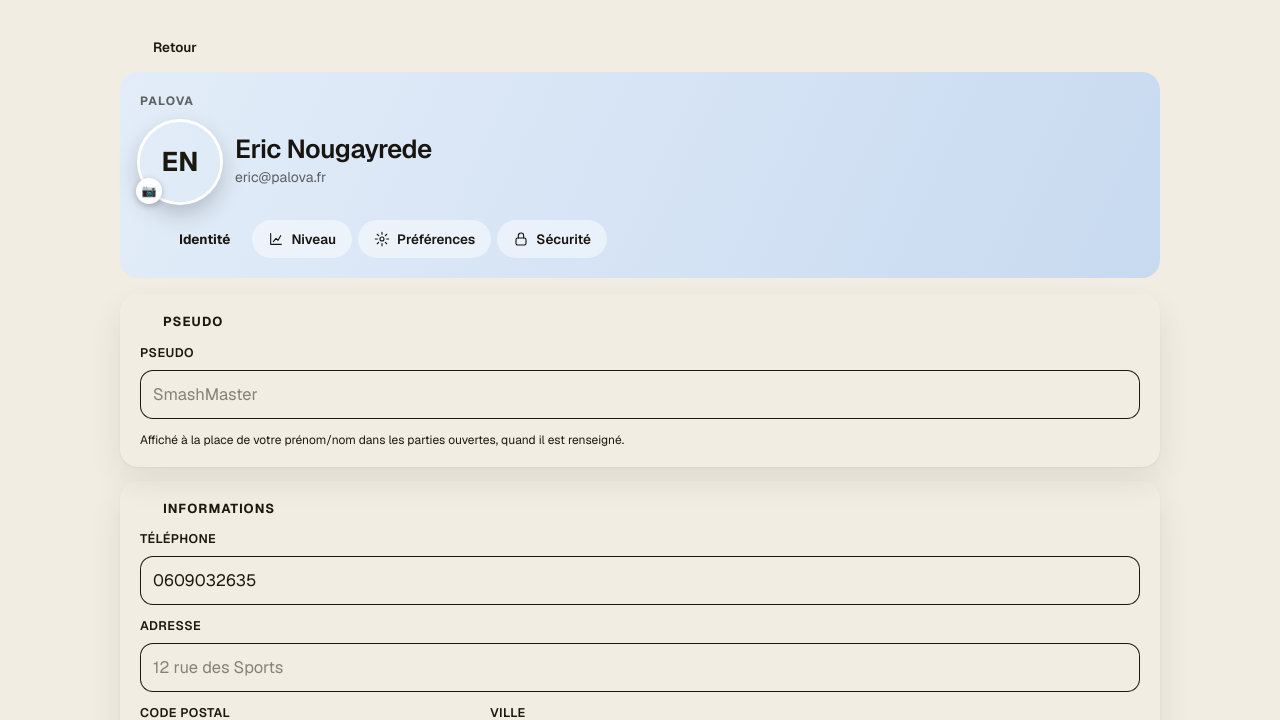
Test: Page Mon profil — onglets + SaveBar › change d’onglet et reflète l’onglet actif dans l’URL
Click the button "Préférences" at (425, 239), box [358, 220, 491, 258]
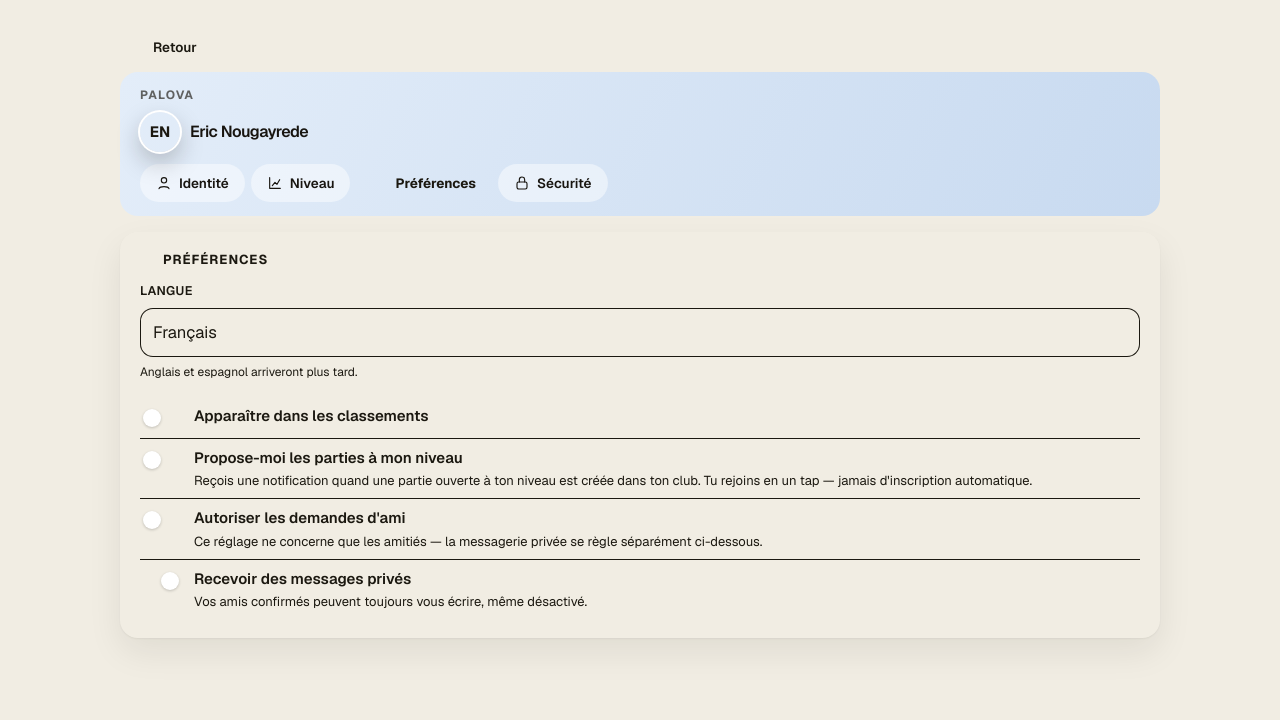
Check: the element "Préférences" is shown, box [120, 232, 1160, 638]
Check: the text "Informations" is gone
